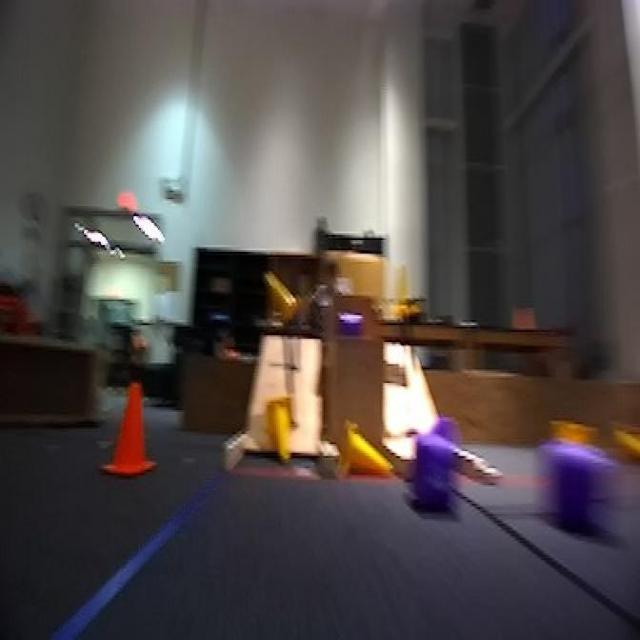frc_cone: (259, 264, 299, 335), (266, 393, 298, 472), (382, 259, 417, 323), (340, 426, 381, 473), (550, 404, 592, 449), (611, 426, 640, 463)
frc_cube: (542, 441, 605, 539), (424, 416, 468, 488), (414, 439, 456, 499), (336, 308, 368, 344)
